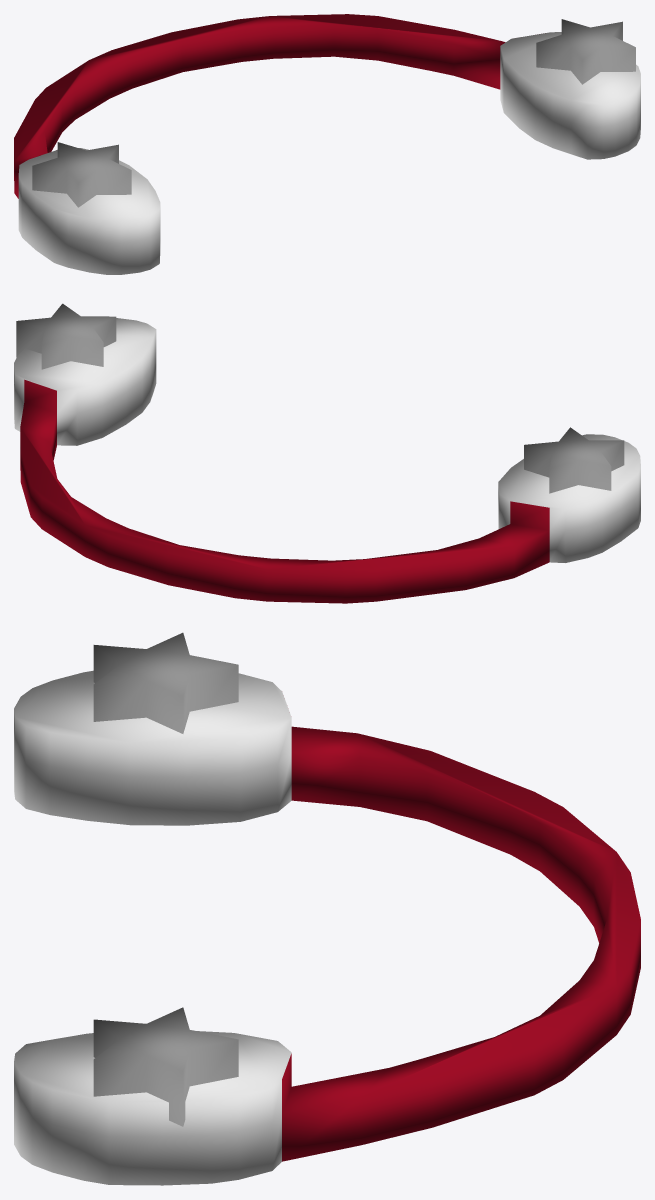
Rendered from earpuff.glb.
3 views of the same model, one above another, from view 1: azimuth 30°, elevation 25°; view 2: azimuth 150°, elevation 25°; view 3: azimuth 270°, elevation 25° (orthographic). The views are drawn at different scales.
Parts seen in each view (by area): view 1: Circle.004, Circle.003, Circle.002; view 2: Circle.004, Circle.002, Circle.003; view 3: Circle.004, Circle.002, Circle.003.
Boxes of the visible parts, x1=… form: Circle.004: x1=14, y1=14, x2=640, y2=274; Circle.003: x1=32, y1=142, x2=131, y2=207; Circle.002: x1=536, y1=19, x2=635, y2=84; Circle.004: x1=14, y1=318, x2=640, y2=603; Circle.002: x1=16, y1=303, x2=116, y2=369; Circle.003: x1=524, y1=427, x2=624, y2=493; Circle.004: x1=14, y1=670, x2=640, y2=1185; Circle.002: x1=93, y1=1007, x2=238, y2=1126; Circle.003: x1=93, y1=632, x2=238, y2=733.
Bounding box in the file's own units: 2.4 × 0.3042 × 1.44.
